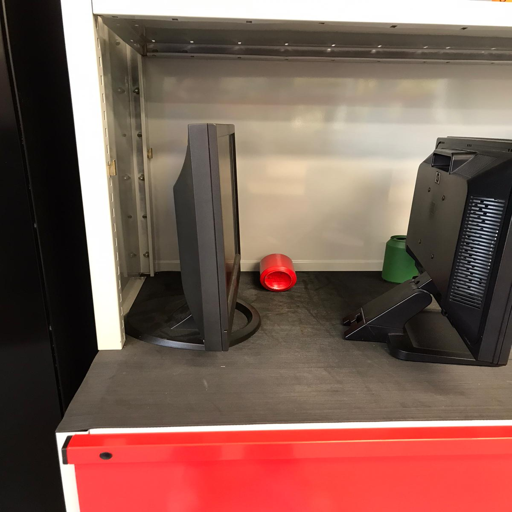Green_Can: (380, 233, 419, 284)
Red_Can: (258, 252, 296, 292)
